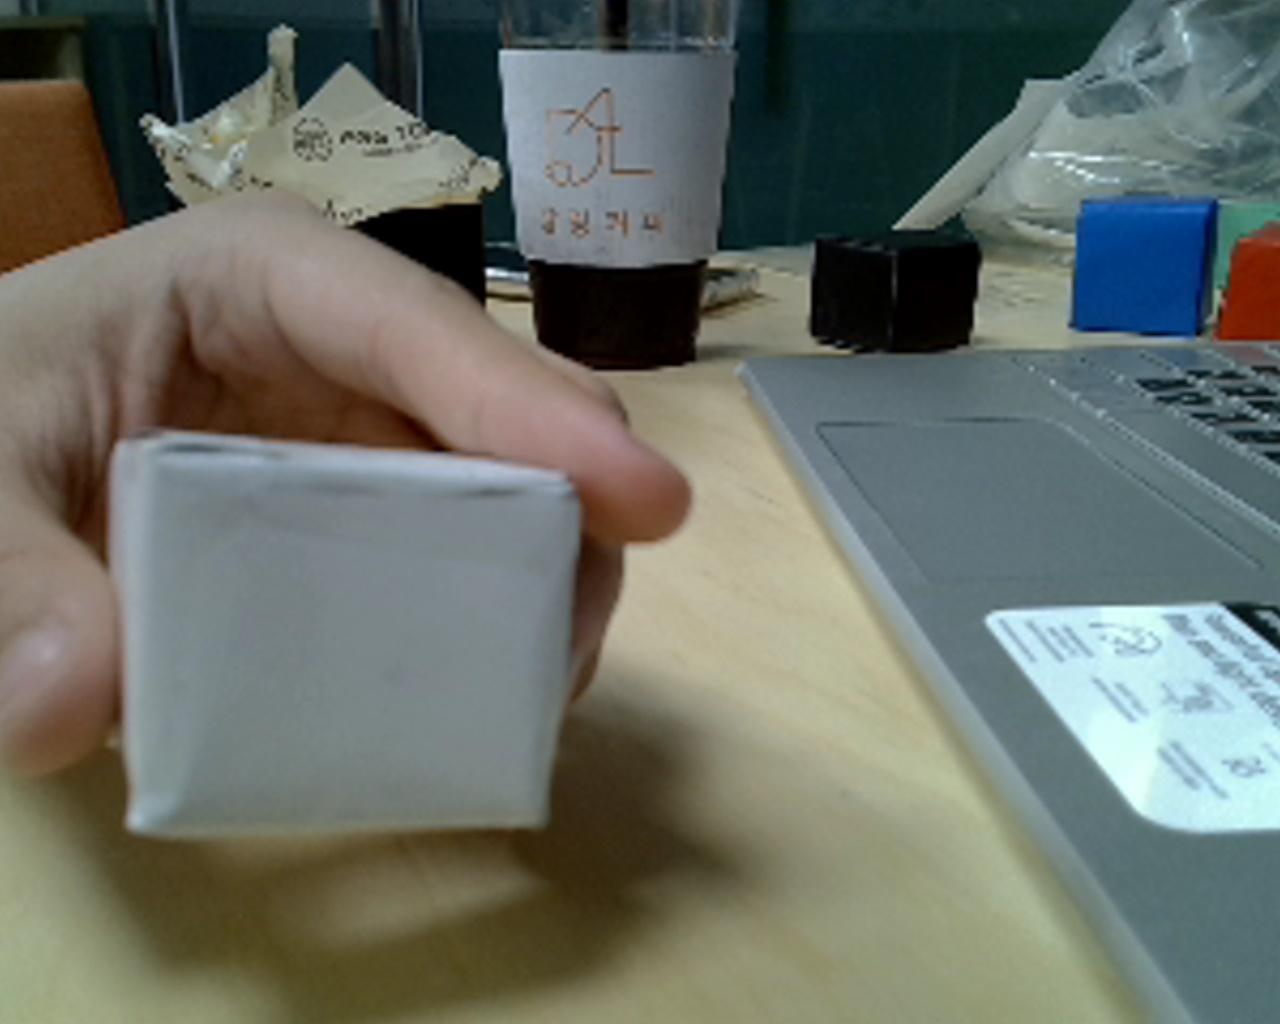whitebox: (66, 399, 623, 878)
